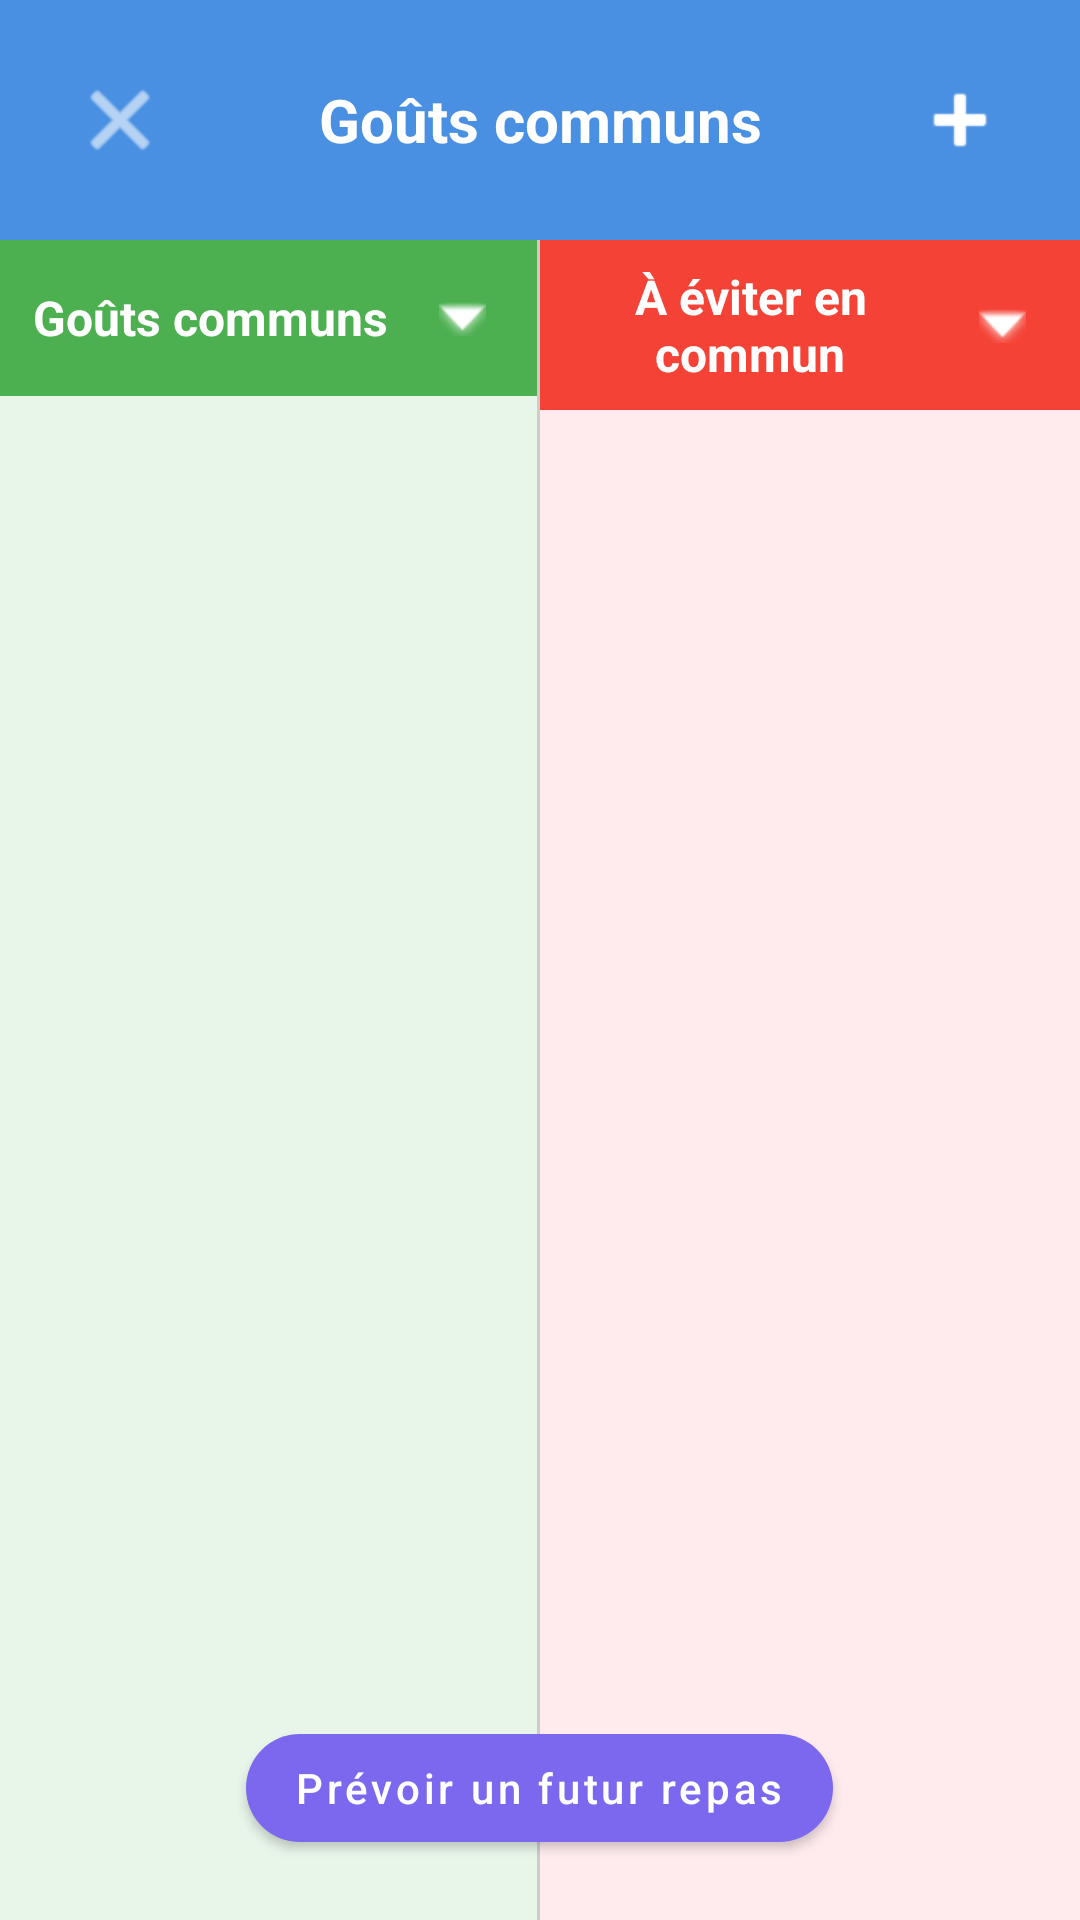

Icons on this 1080*1920 Android screen, each with its box as (left=x1, top=y1, right=x2, bottom=y2):
Retour: (left=90, top=90, right=150, bottom=150)
